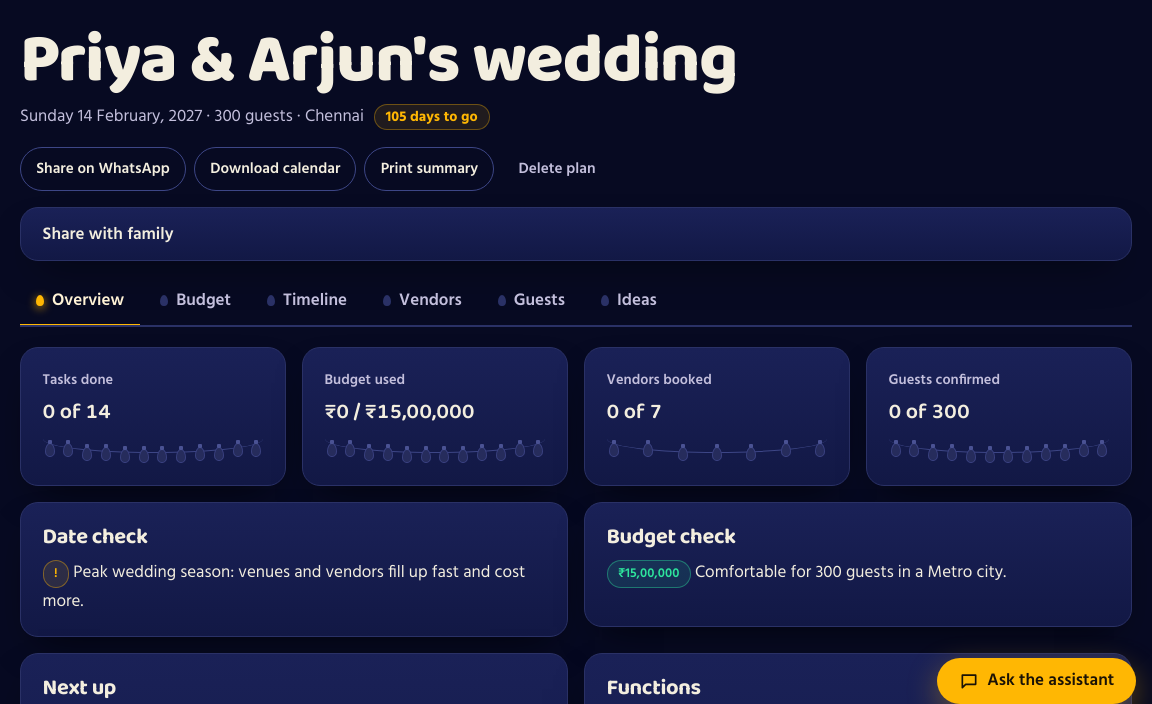
Ideas tab › shows the server's error message when ideas fail
Click the tab "Ideas": point(629, 302) 585,278 -> 673,327
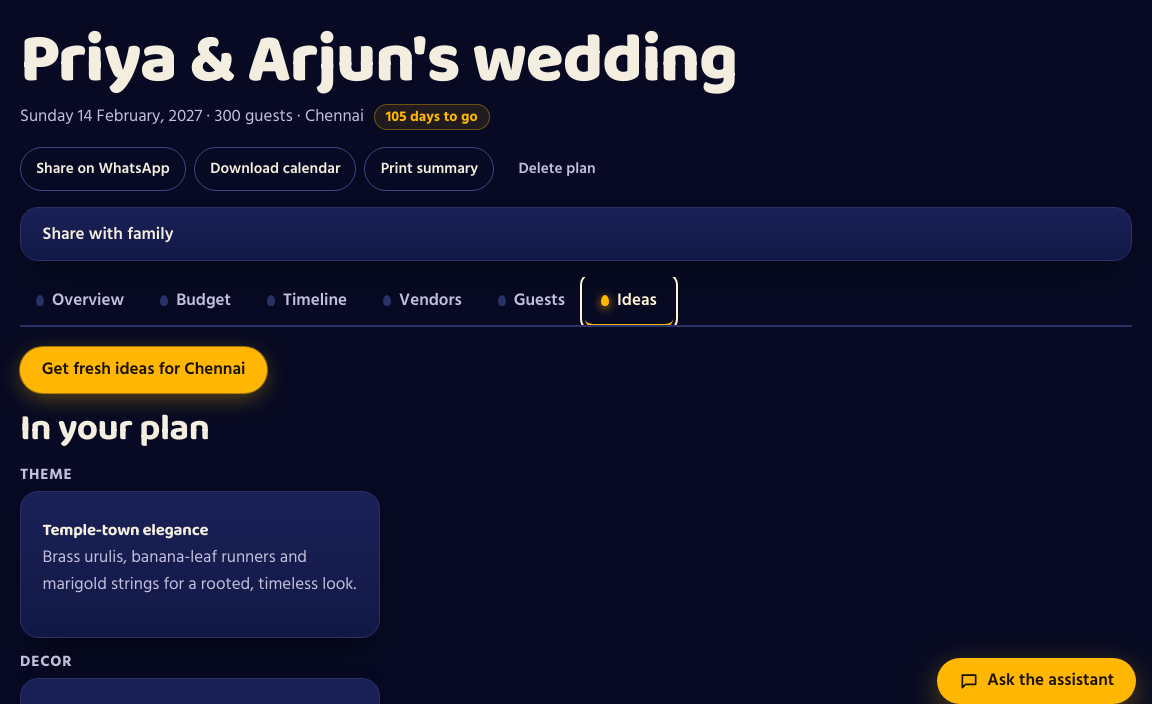
Click the button "Get fresh ideas for Chennai": point(144, 370) 20,347 -> 267,393
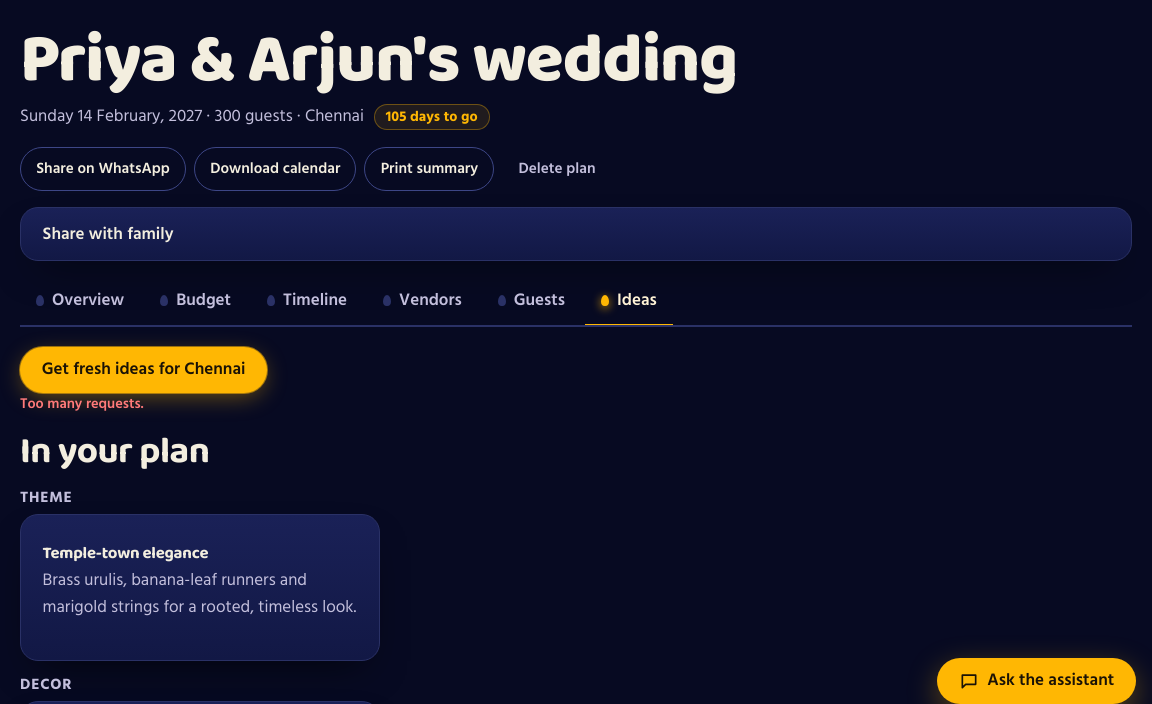
Check: the message reads "Too many requests.", box 20,393 -> 144,416
